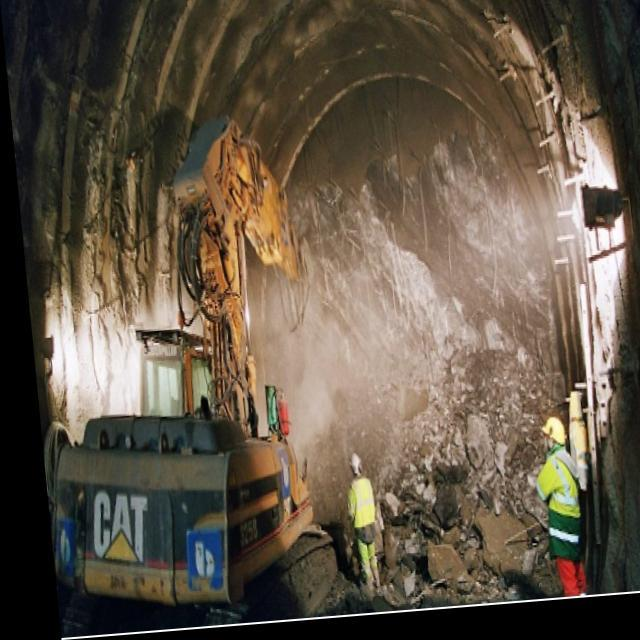helmet: (537, 411, 568, 459), (346, 447, 368, 481)
vest: (531, 449, 595, 567), (342, 466, 381, 543)
